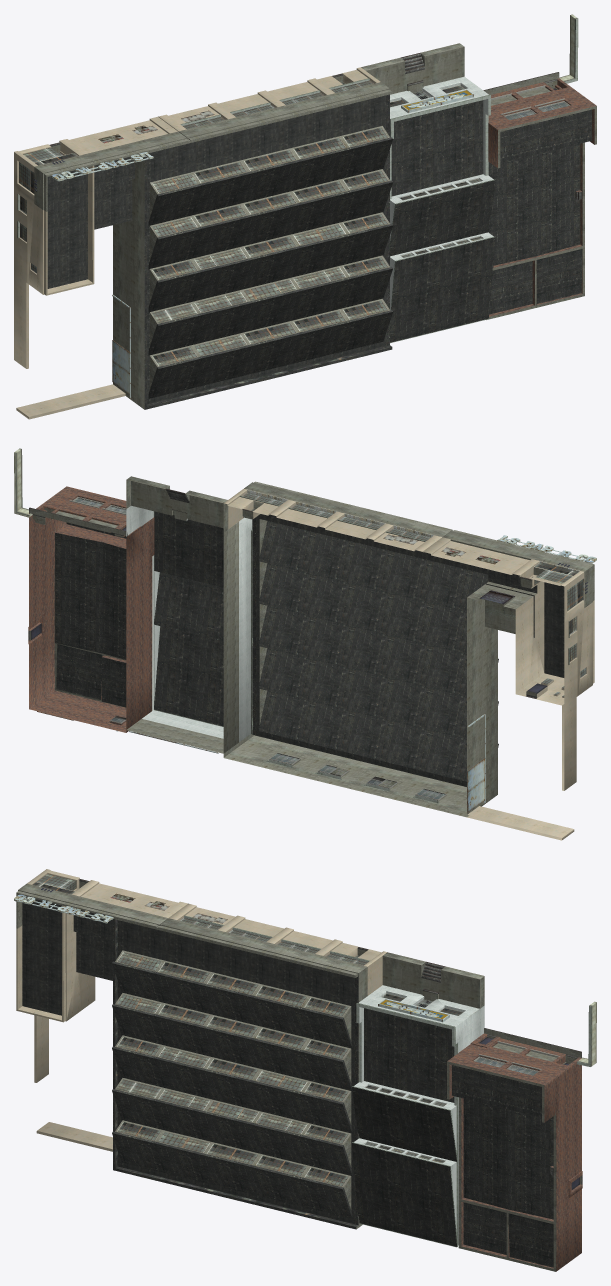
The model's file is SC11_ind.fbx.
3 views of the same model, one above another, from view 1: azimuth 30°, elevation 25°; view 2: azimuth 150°, elevation 25°; view 3: azimuth 330°, elevation 25° (orthographic).
Visible parts, largest first — view 1: sc1_11_ind; view 2: sc1_11_ind; view 3: sc1_11_ind.
Boxes of the visible parts, x1,y1,x2,y2 form: sc1_11_ind: [14, 14, 596, 419]; sc1_11_ind: [14, 448, 596, 840]; sc1_11_ind: [14, 869, 596, 1271].
Bounding box in the file's own units: 6781 × 3017 × 838.
